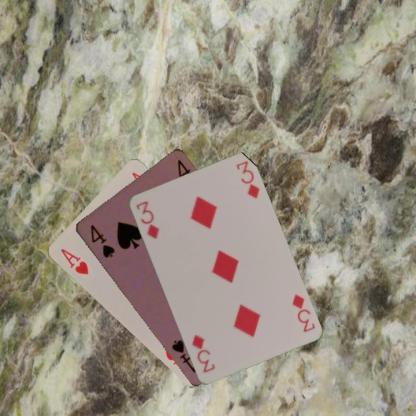3d: (289, 290, 316, 334), (133, 198, 161, 240)
4s: (87, 221, 116, 259)
Ah: (58, 246, 90, 276)
